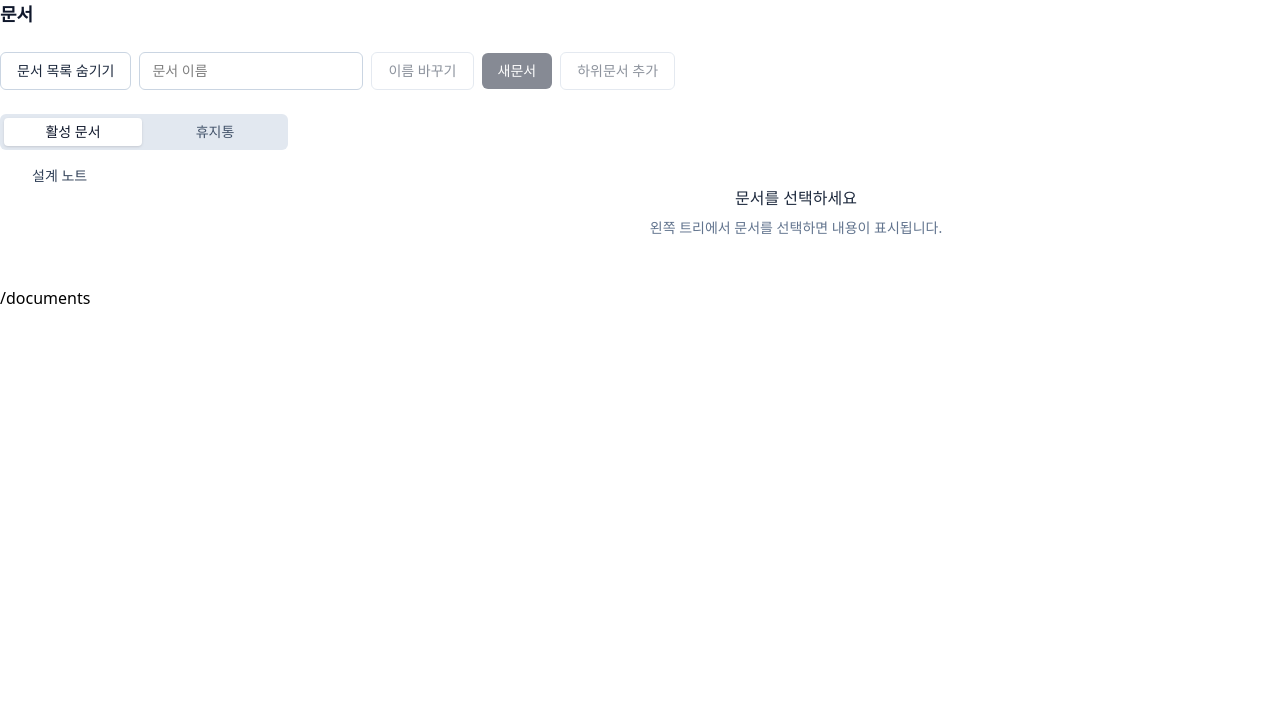
Scenario: DocumentWorkspacePage 조립 (트리 + 브레드크럼 + 뷰어 + 툴바) › 마지막 루트 문서 삭제 후 뷰어 대신 빈 화면 안내를 표시한다 (전부 삭제)
This screenshot has width=1280, height=720.
Click the button "설계 노트": (156, 176) [32,166,280,186]
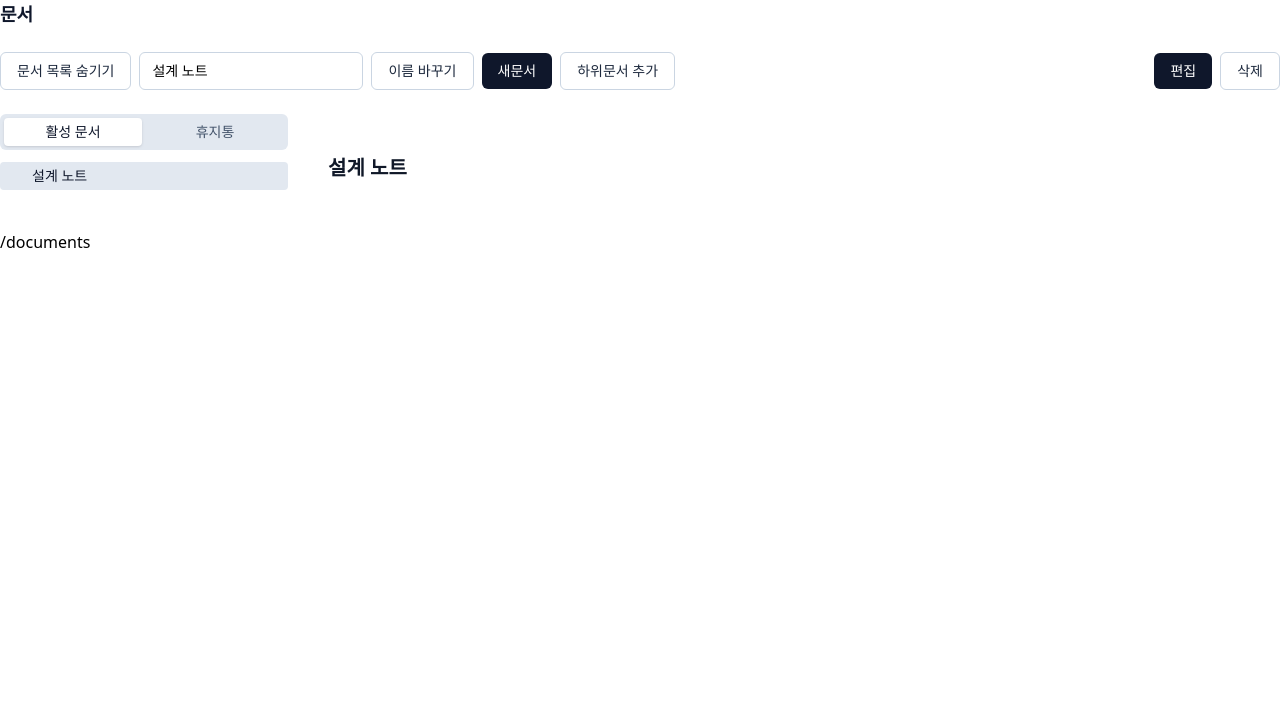
Click the button "삭제": (1250, 71) [1220,52,1279,90]
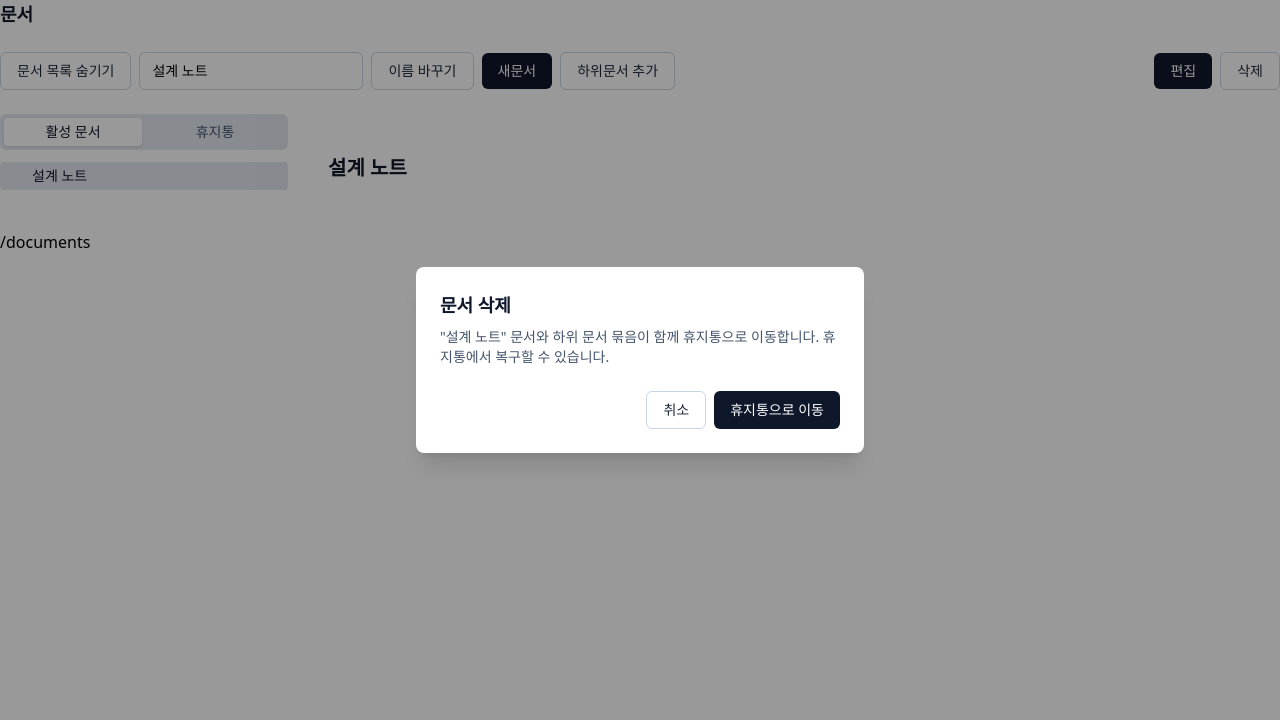
Click the button "휴지통으로 이동": (777, 410) [714,391,840,429]
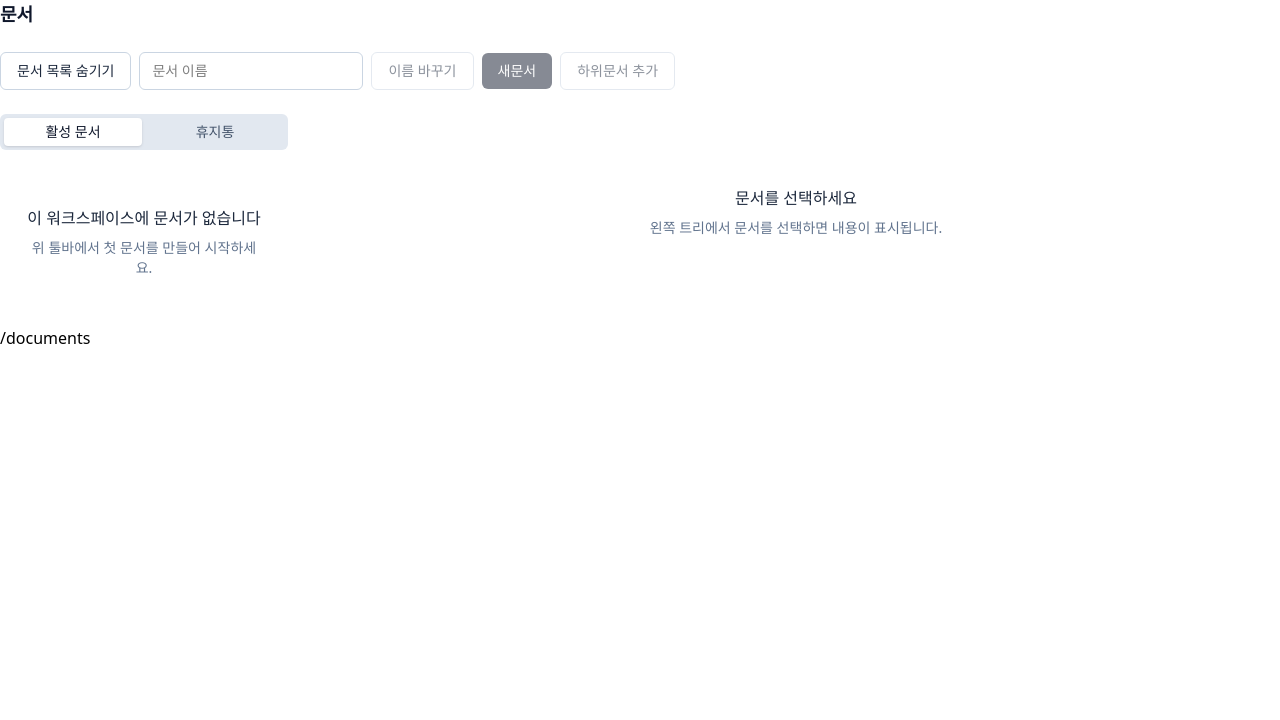
Check: the text "문서를 선택하세요" is shown, box [735,186,857,210]
Check: the button "삭제" is gone
